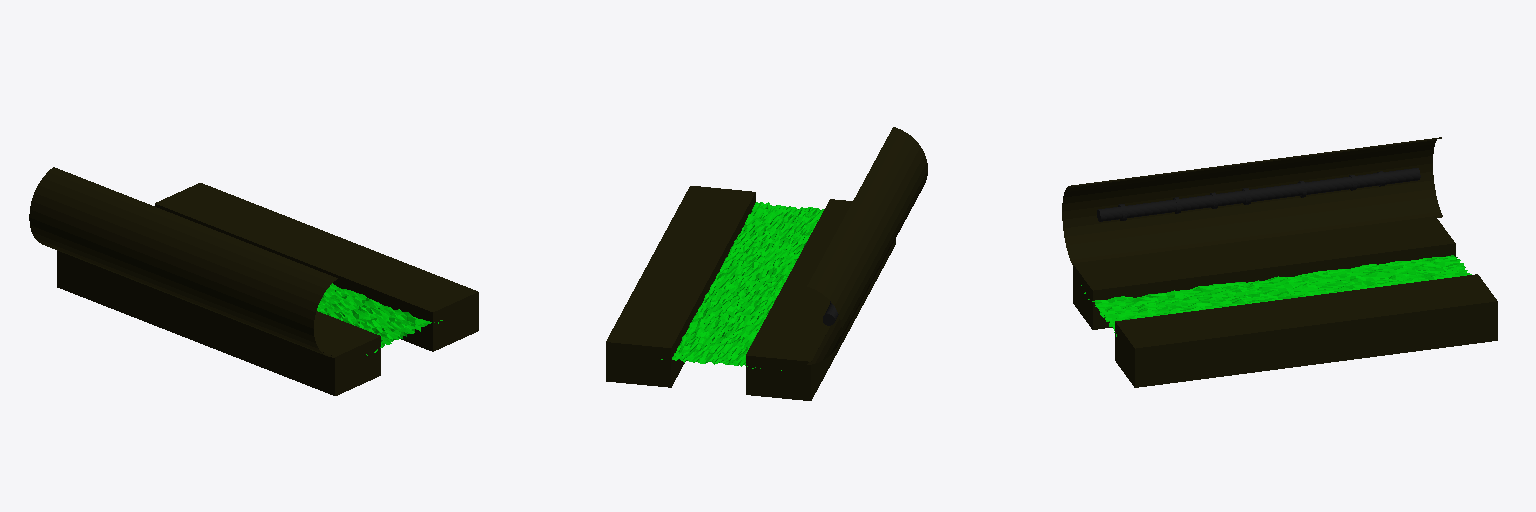
Rendered from egoutNT.obj.
3 views of the same model, side by side, from view 1: azimuth 30°, elevation 25°; view 2: azimuth 150°, elevation 25°; view 3: azimuth 270°, elevation 25° (orthographic).
Visible parts, largest first — view 1: Cylinder, Cube.001, Cube, Plane.001; view 2: Cube.001, Plane.001, Cylinder, Cube; view 3: Cube.001, Cylinder, Cube, Plane.001, Cylinder.001.
Boxes of the visible parts, x1=… form: Cylinder: x1=29, y1=167, x2=337, y2=357; Cube.001: x1=155, y1=183, x2=478, y2=351; Cube: x1=57, y1=251, x2=380, y2=395; Plane.001: x1=317, y1=283, x2=442, y2=355; Cube.001: x1=606, y1=186, x2=755, y2=387; Plane.001: x1=661, y1=202, x2=823, y2=370; Cylinder: x1=807, y1=127, x2=927, y2=364; Cube: x1=746, y1=199, x2=895, y2=400; Cube.001: x1=1115, y1=274, x2=1497, y2=387; Cylinder: x1=1062, y1=137, x2=1442, y2=265; Cube: x1=1073, y1=216, x2=1455, y2=329; Plane.001: x1=1081, y1=255, x2=1471, y2=336; Cylinder.001: x1=1097, y1=168, x2=1420, y2=221.
Size of the model in its own units: 54.59 by 20.4 by 68.55.